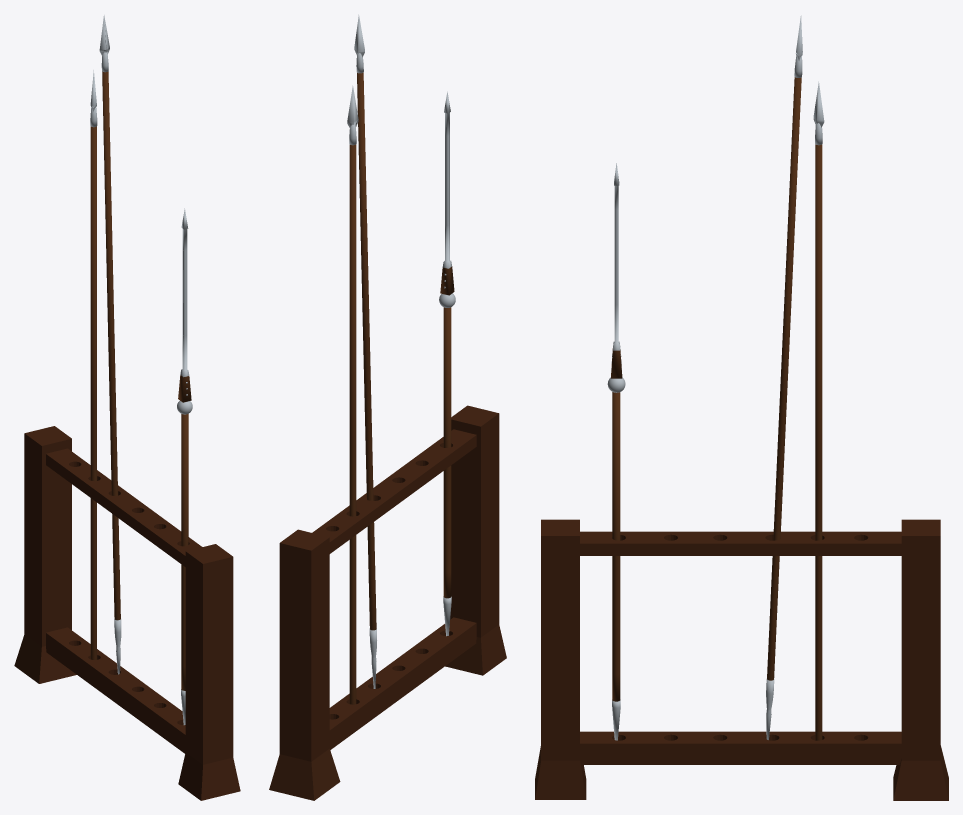
Rendered from Speer Ständer Ver 3.fbx.
The picture shows the model from 3 angles, left to right: view 1: azimuth 30°, elevation 25°; view 2: azimuth 150°, elevation 25°; view 3: azimuth 270°, elevation 25°; orthographic projection. The views are drawn at different scales.
Visible parts, largest first — view 1: Speer Ständer Ver 3; view 2: Speer Ständer Ver 3; view 3: Speer Ständer Ver 3.
Boxes of the visible parts, x1,y1,x2,y2 form: Speer Ständer Ver 3: (14, 15, 240, 800); Speer Ständer Ver 3: (269, 14, 506, 800); Speer Ständer Ver 3: (535, 15, 948, 800).
Bounding box in the file's own units: 16.86 × 260 × 126.
